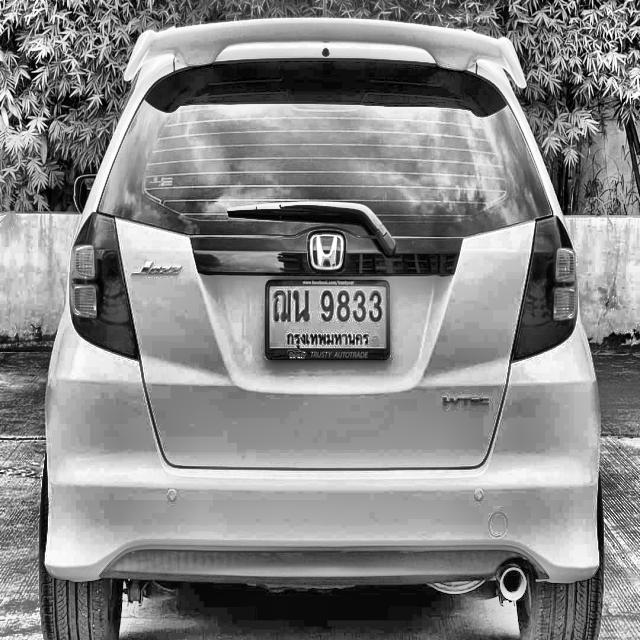license-plate: (264, 278, 392, 364)
